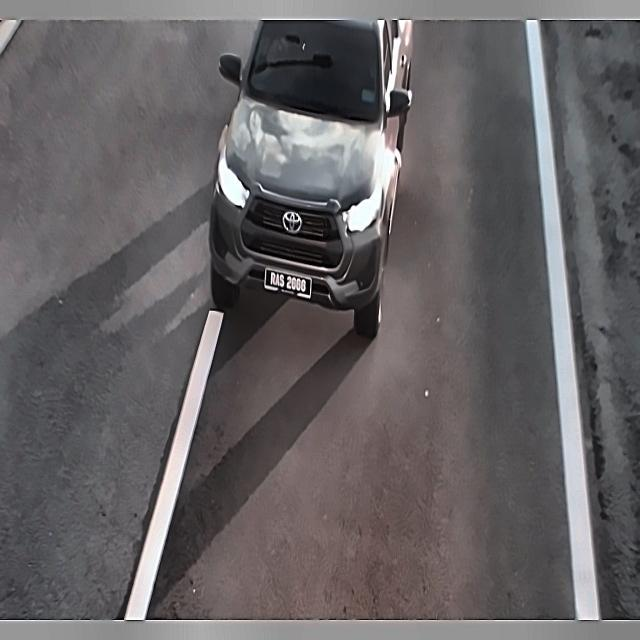car: (257, 263, 317, 302)
